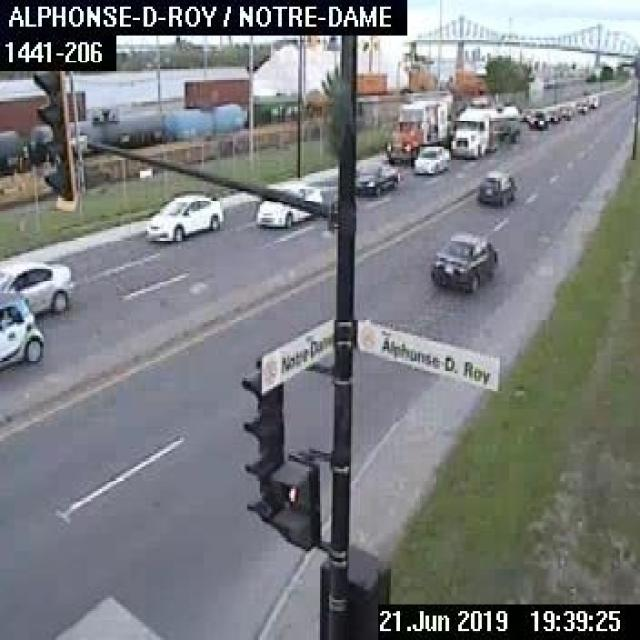vehicle: (384, 91, 456, 163), (0, 254, 73, 316), (451, 100, 522, 160), (426, 229, 494, 289), (144, 191, 222, 242), (252, 175, 322, 231), (0, 295, 44, 369), (353, 157, 400, 193), (472, 169, 516, 207), (412, 142, 450, 176), (527, 110, 550, 126), (542, 106, 560, 124), (558, 102, 574, 121), (572, 99, 588, 114), (584, 92, 598, 106)
